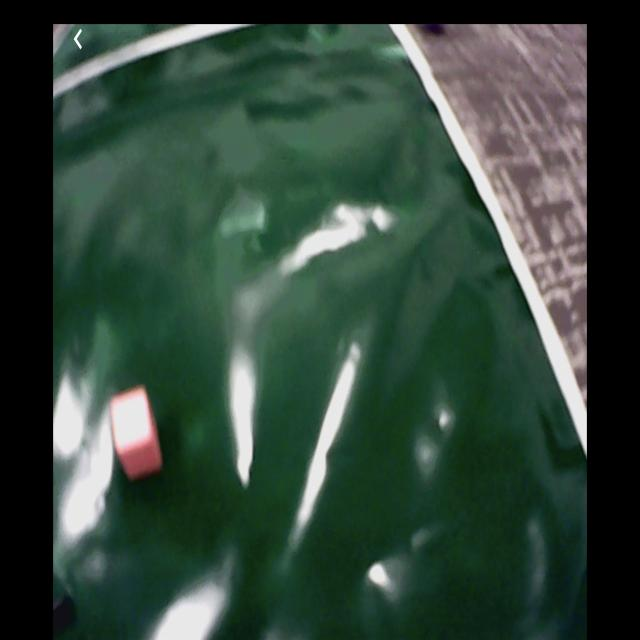ball: (421, 27, 449, 39)
